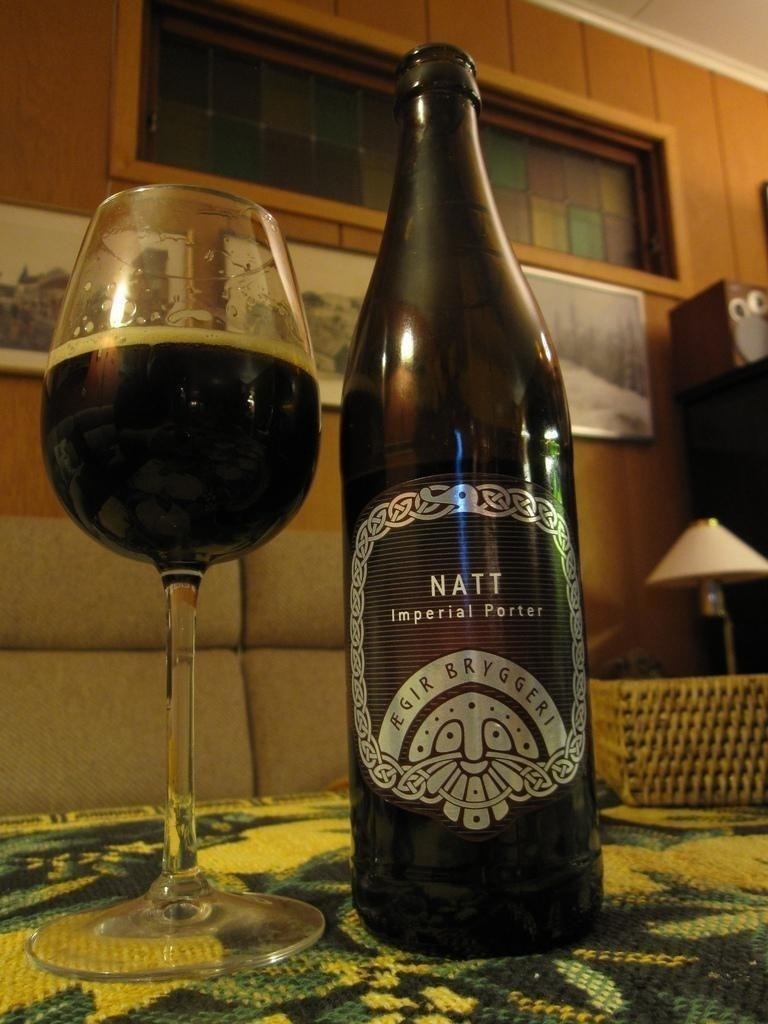bottle-glass: (334, 43, 608, 957)
glass-wine: (30, 182, 328, 982)
